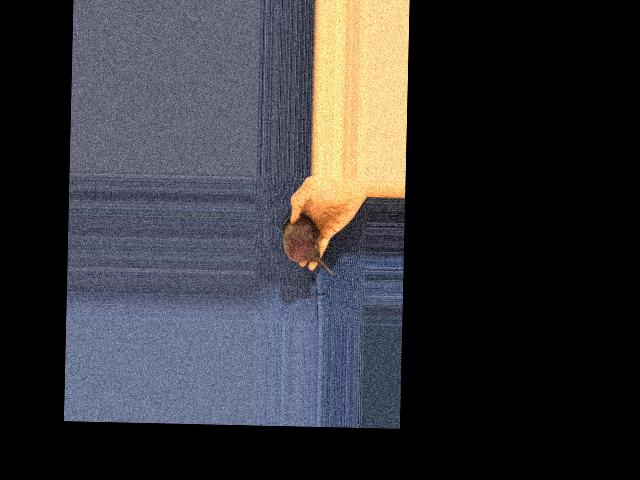beet: (280, 213, 336, 275)
